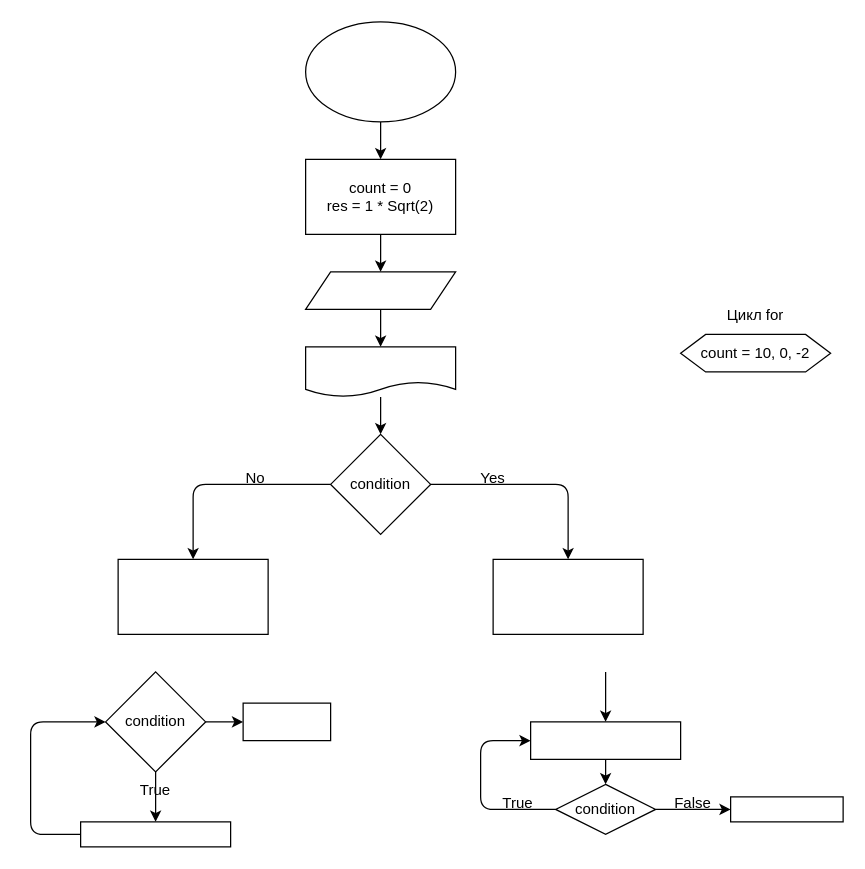
Some shapes in this 865 by 869 pixel diagram are drawn without their labels. Here are the shapes that lost their labels. From the top down, the centre of each, then its label:
the point at 380,71: Start End
the point at 380,290: Ввод count
the point at 380,371: Вывод print(res)
